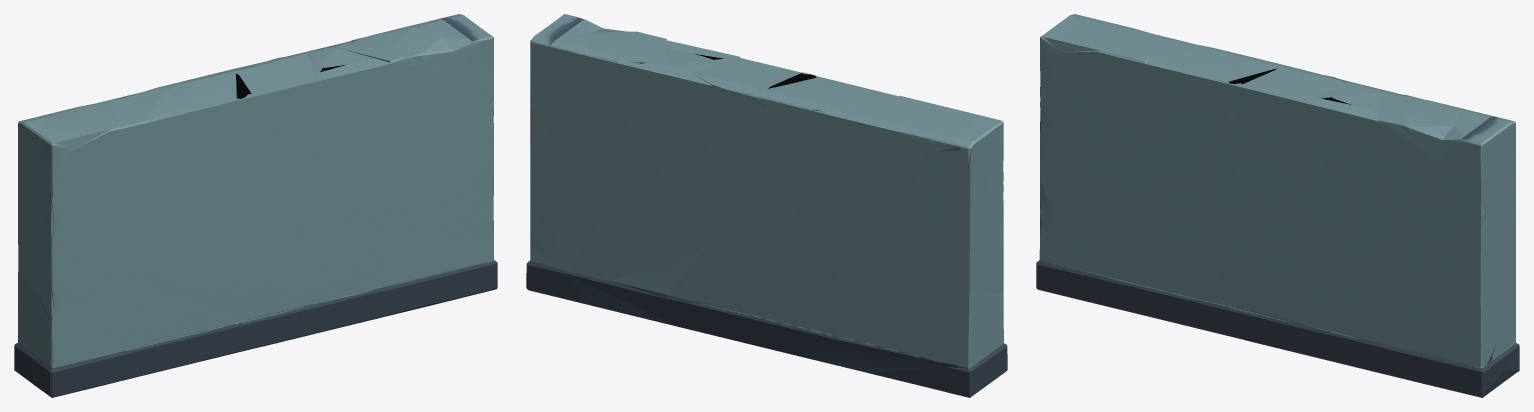
Rendered from Meshy_AI_vet_clinic_wall_balanced_20261026_texture_remesh_tri.fbx.
3 views of the same model, side by side, from view 1: azimuth 30°, elevation 25°; view 2: azimuth 150°, elevation 25°; view 3: azimuth 330°, elevation 25° (orthographic).
Parts seen in each view (by area): view 1: output_unwrapped; view 2: output_unwrapped; view 3: output_unwrapped.
Part boxes in pixels (x1,y1,x2,y2): output_unwrapped: [14, 14, 497, 397]; output_unwrapped: [526, 14, 1007, 397]; output_unwrapped: [1036, 14, 1519, 397].
Size of the model in its own units: 190 by 103 by 27.89.
Materials: 1 (1 with a texture image).
